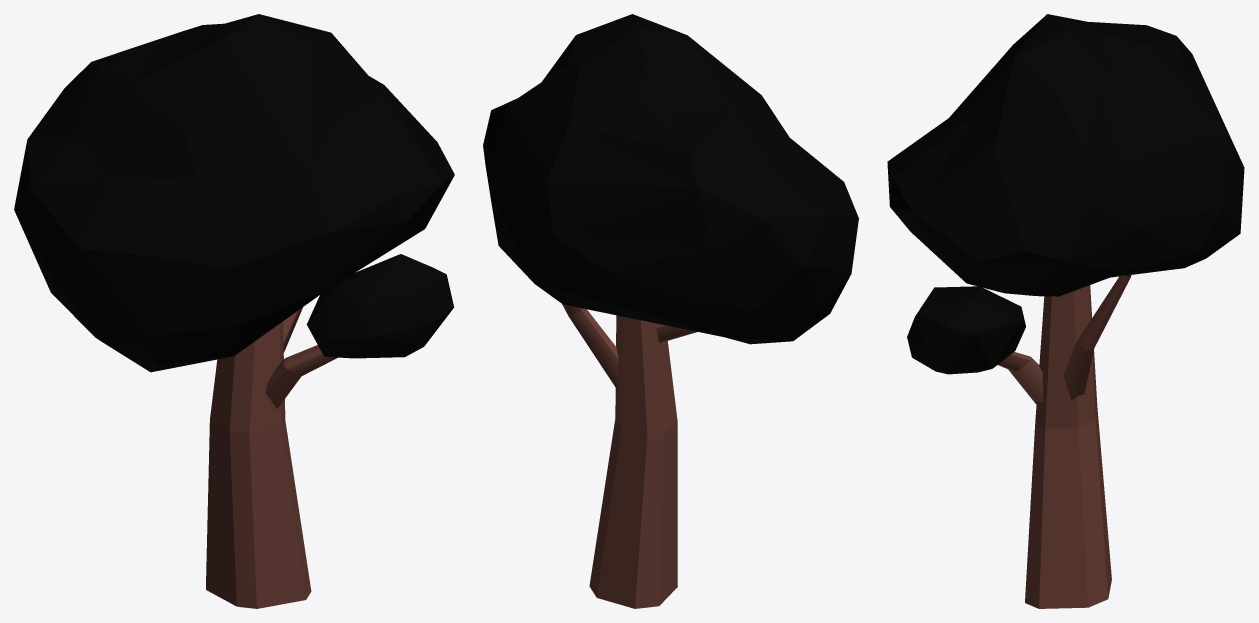
The model's file is Oak_large.fbx.
3 renders of one model, left to right at view 1: azimuth 30°, elevation 25°; view 2: azimuth 150°, elevation 25°; view 3: azimuth 270°, elevation 25°, orthographic. The views are drawn at different scales.
Visible parts, largest first — view 1: oak_crown_Large, oak_rtunk_Large; view 2: oak_crown_Large, oak_rtunk_Large; view 3: oak_crown_Large, oak_rtunk_Large.
Boxes of the visible parts, <box> form: oak_crown_Large: <box>14,14,454,372</box>; oak_rtunk_Large: <box>206,307,337,608</box>; oak_crown_Large: <box>483,14,858,344</box>; oak_rtunk_Large: <box>562,304,697,608</box>; oak_crown_Large: <box>887,14,1244,374</box>; oak_rtunk_Large: <box>998,274,1131,608</box>.
Bounding box in the file's own units: 222 × 329 × 190.
